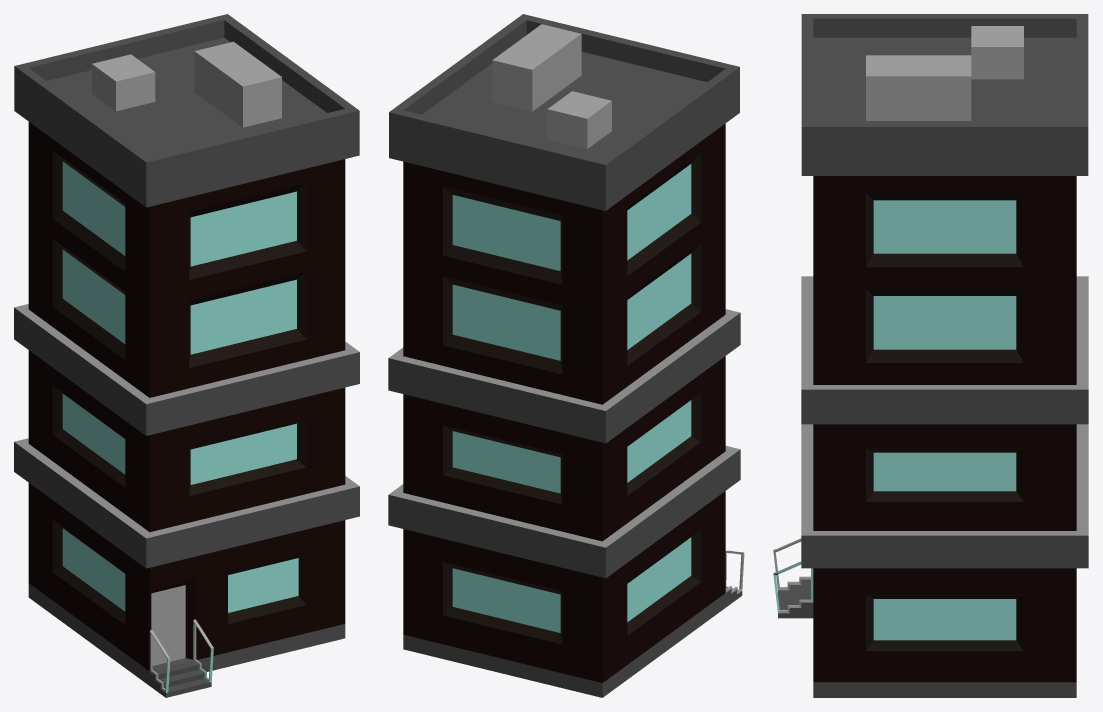
Rendered from fase1_predio1.fbx.
3 renders of one model, left to right at view 1: azimuth 30°, elevation 25°; view 2: azimuth 150°, elevation 25°; view 3: azimuth 270°, elevation 25°, orthographic. The views are drawn at different scales.
Visible parts, largest first — view 1: Predio01; view 2: Predio01; view 3: Predio01.
Part boxes in pixels (x1,y1,x2,y2): Predio01: (14,14,359,697); Predio01: (388,14,744,697); Predio01: (773,14,1088,697).
Size of the model in its own units: 68.89 by 170 by 80.99.
